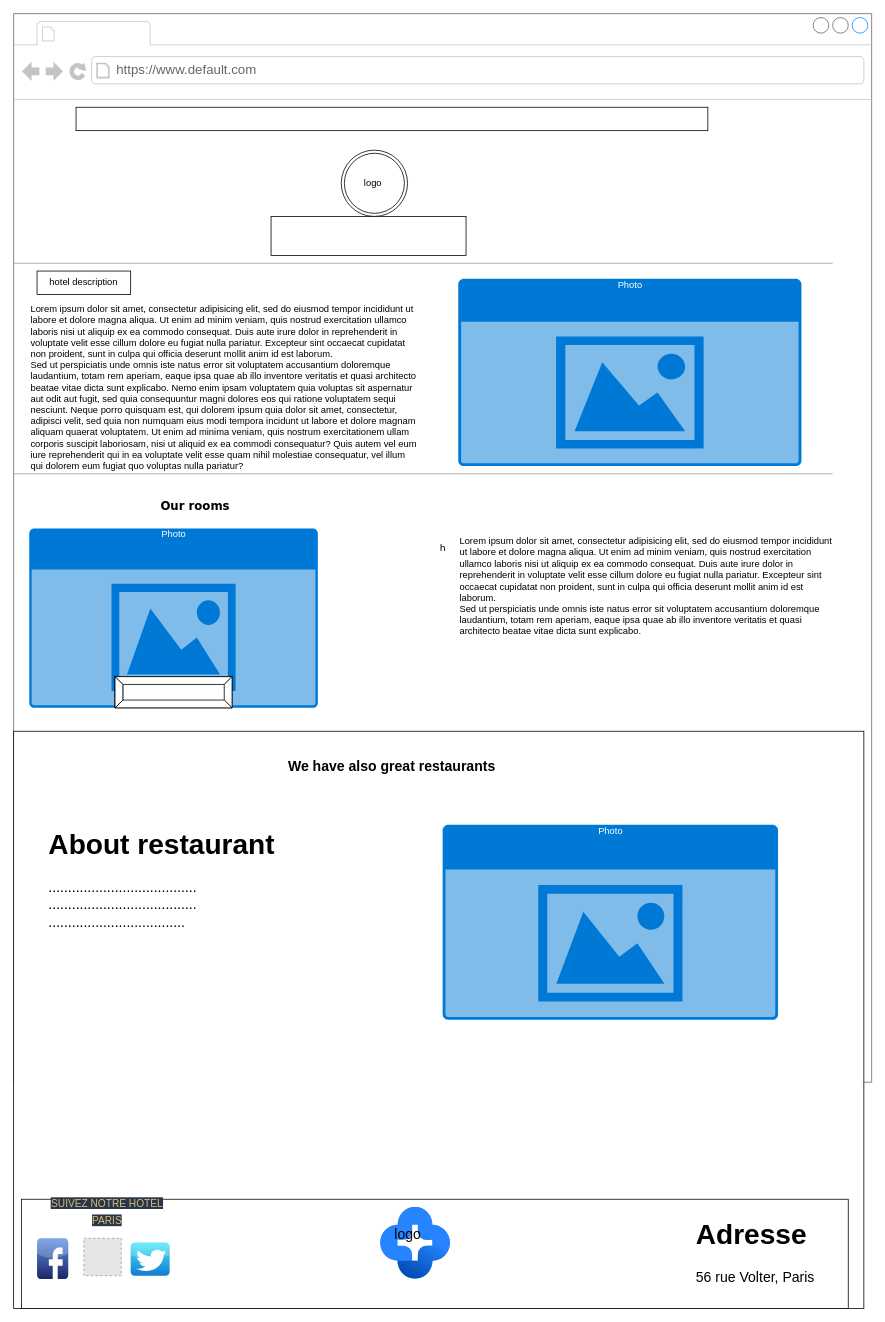
Some shapes in this 885 by 1322 pixel diagram are drawn without their labels. Grey dashed boxes stand in for pictures. The shapes that lost their labels are listed below. From the top down, each one's centre as x and y in pixels, then its label:
(103,32): Page 1
(391,118): Home Our rooms Gallery Contact Reserve
(368,235): Hotel name
(173,692): Reservation
